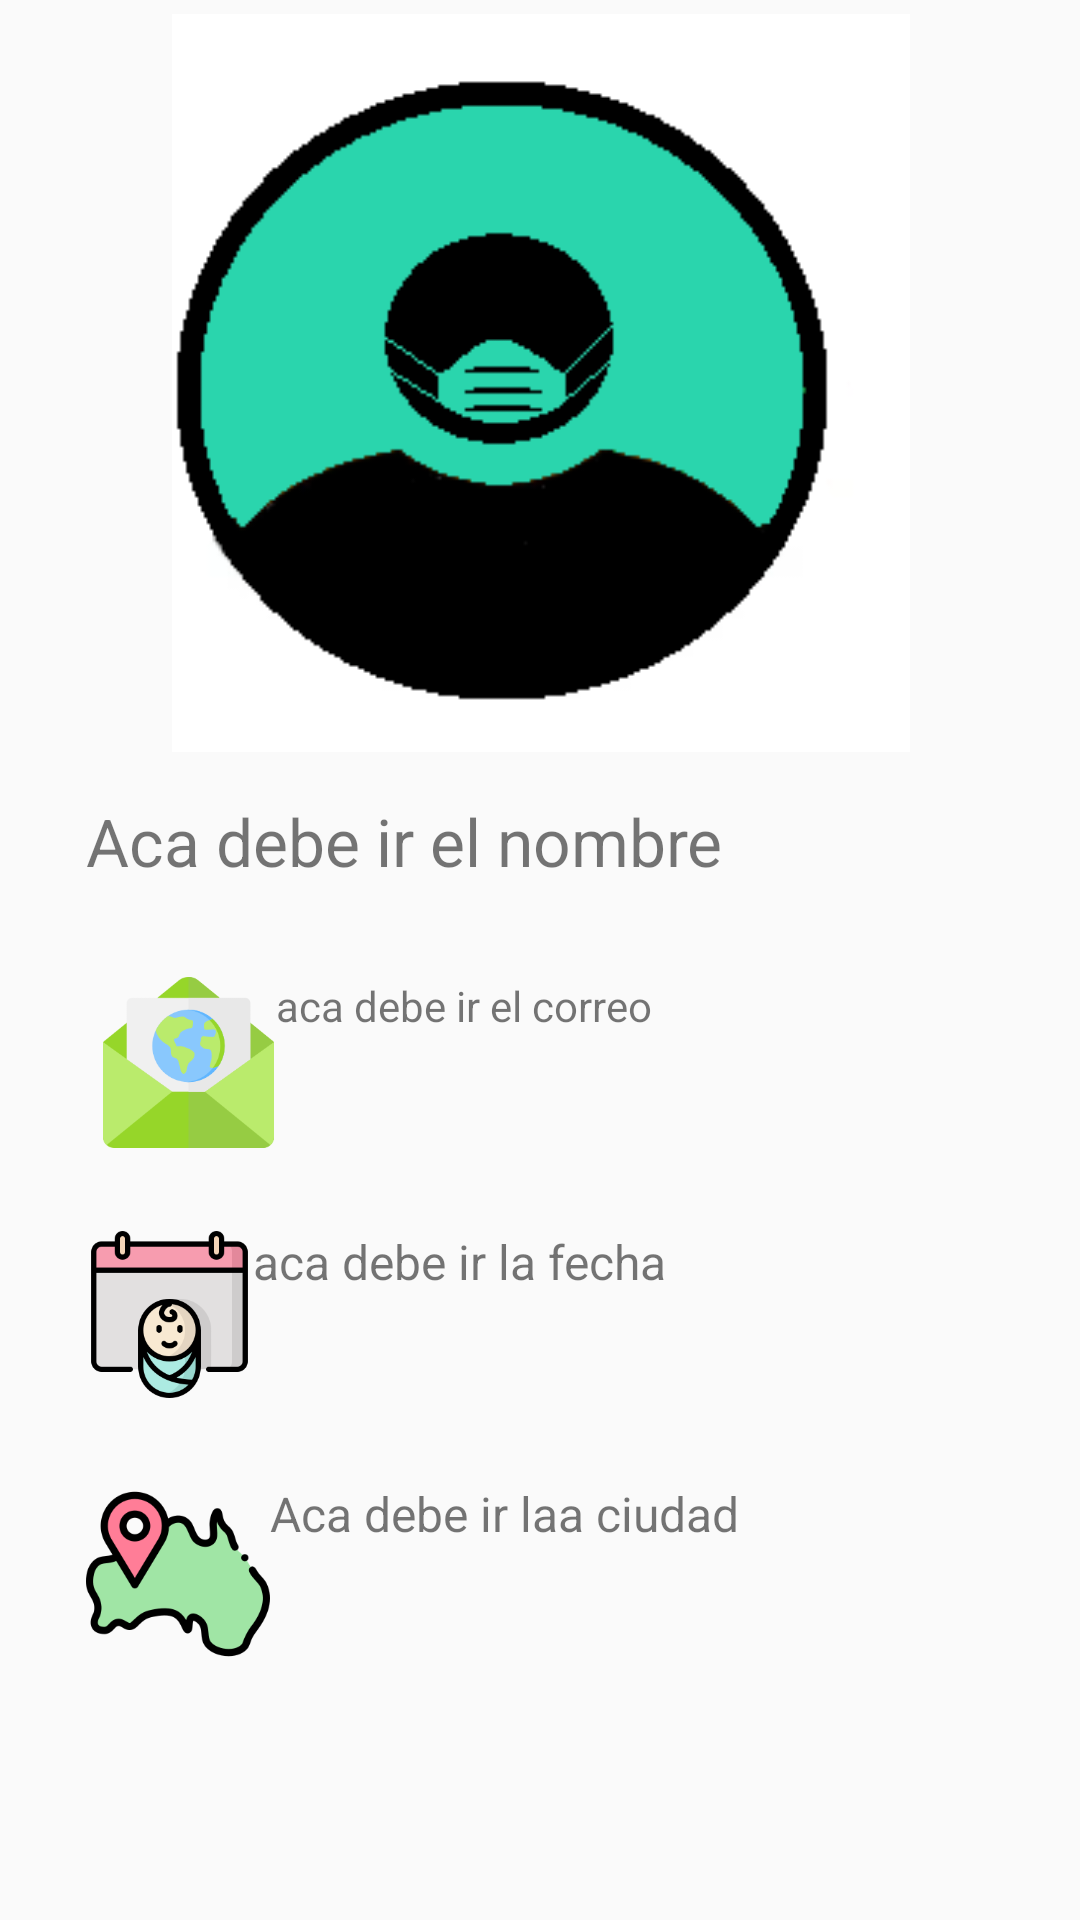

Named icons in this screenshot (1080 x 1920) and their bounding boxes, (x1, y1, x2, y2):
australia: (86, 1491, 270, 1657)
baby: (91, 1231, 248, 1398)
mail: (103, 977, 274, 1148)
